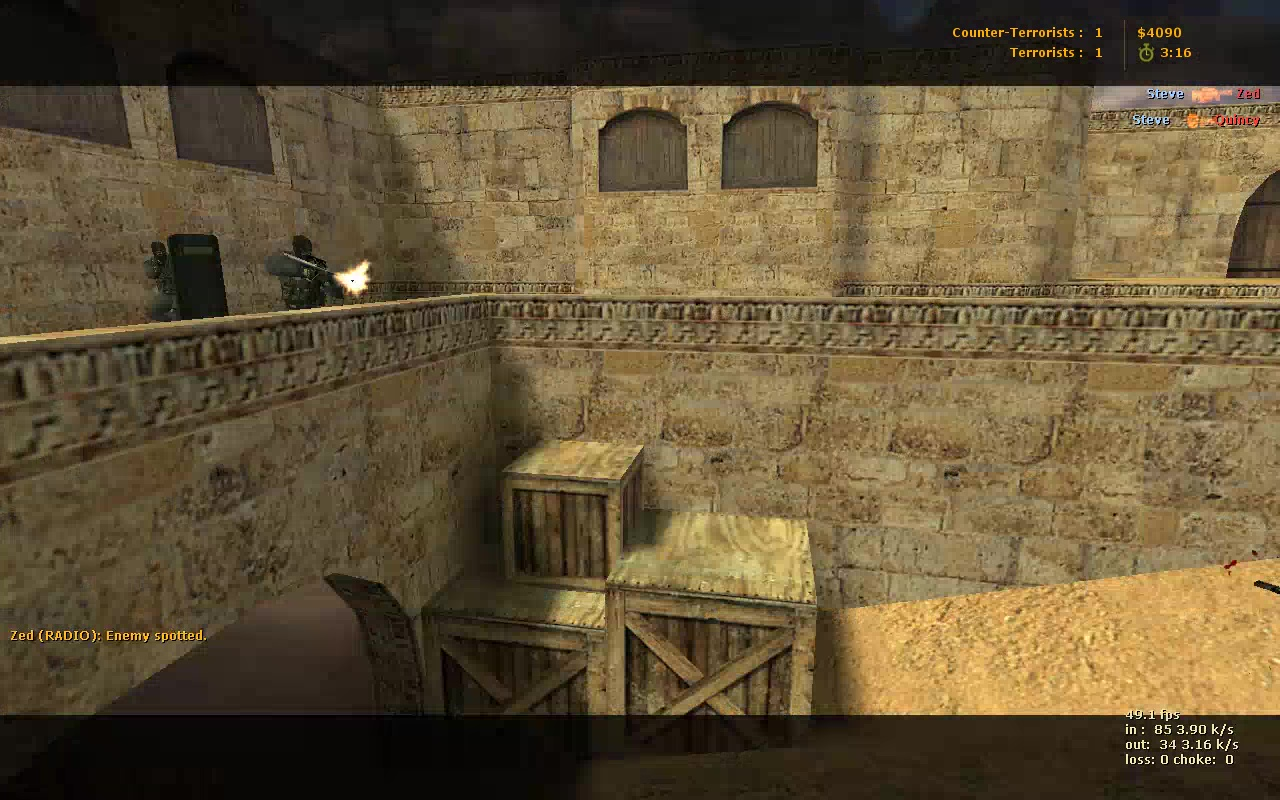ct: (144, 235, 228, 324), (263, 234, 346, 317)
